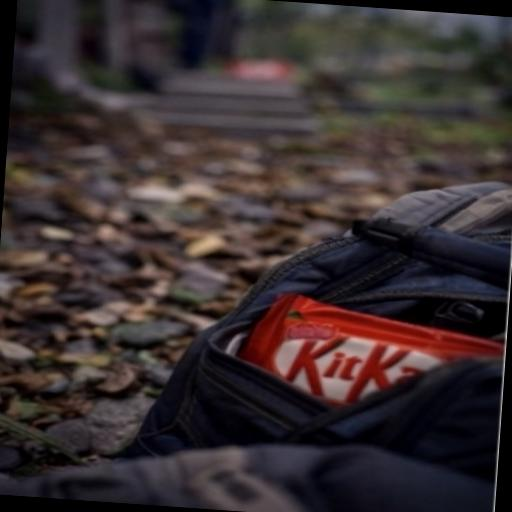kitkat: (215, 271, 510, 463)
